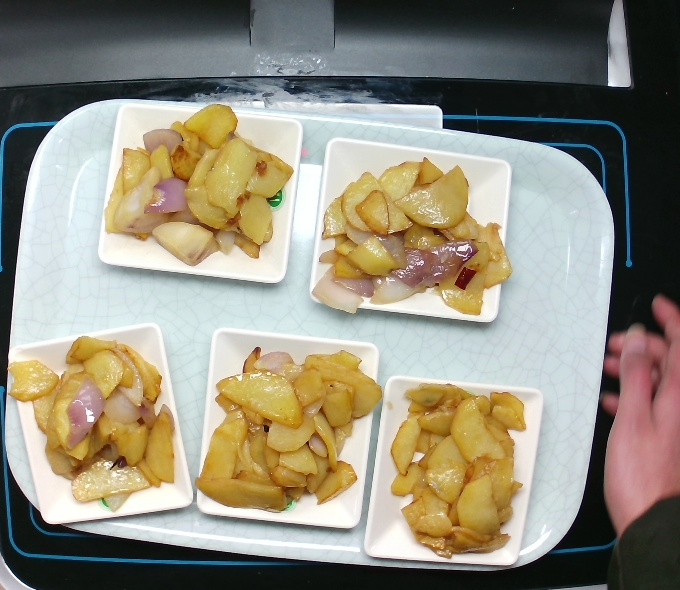wcq-TuDouPian: (311, 156, 511, 322), (102, 104, 290, 274), (201, 339, 372, 516), (380, 388, 540, 555), (11, 339, 171, 506)
